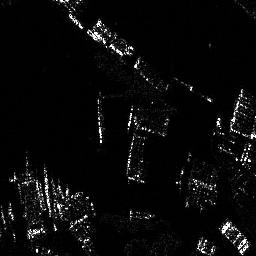ship: (93, 93, 108, 145)
